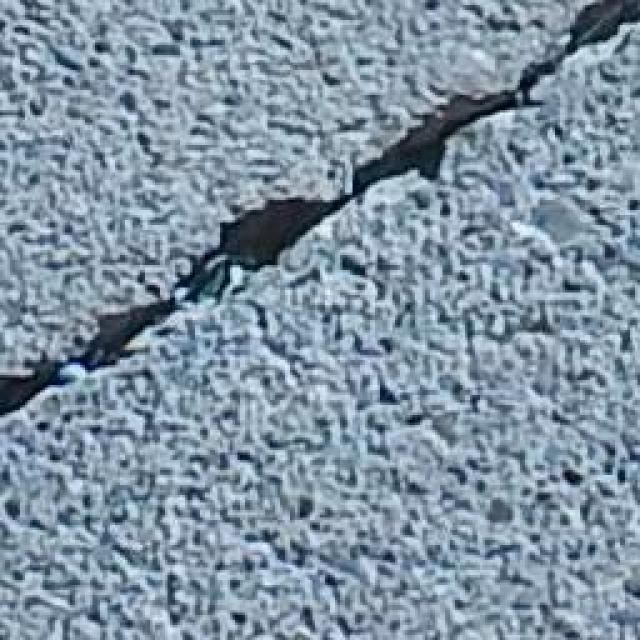concrete-crack: (0, 0, 640, 414)
